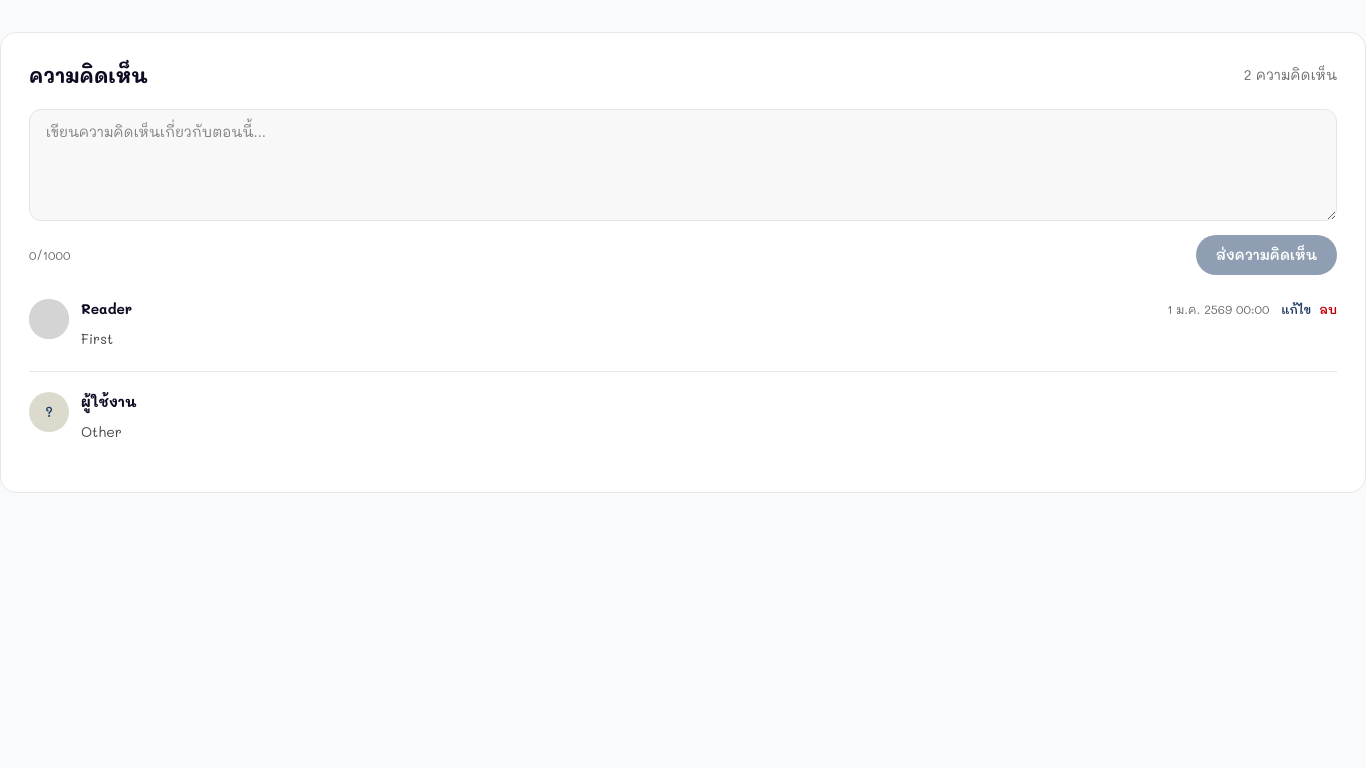
failed comment edit preserves data and presents the error
Click the button "แก้ไข". click: point(1296, 309)
box: [1281,301,1311,317]
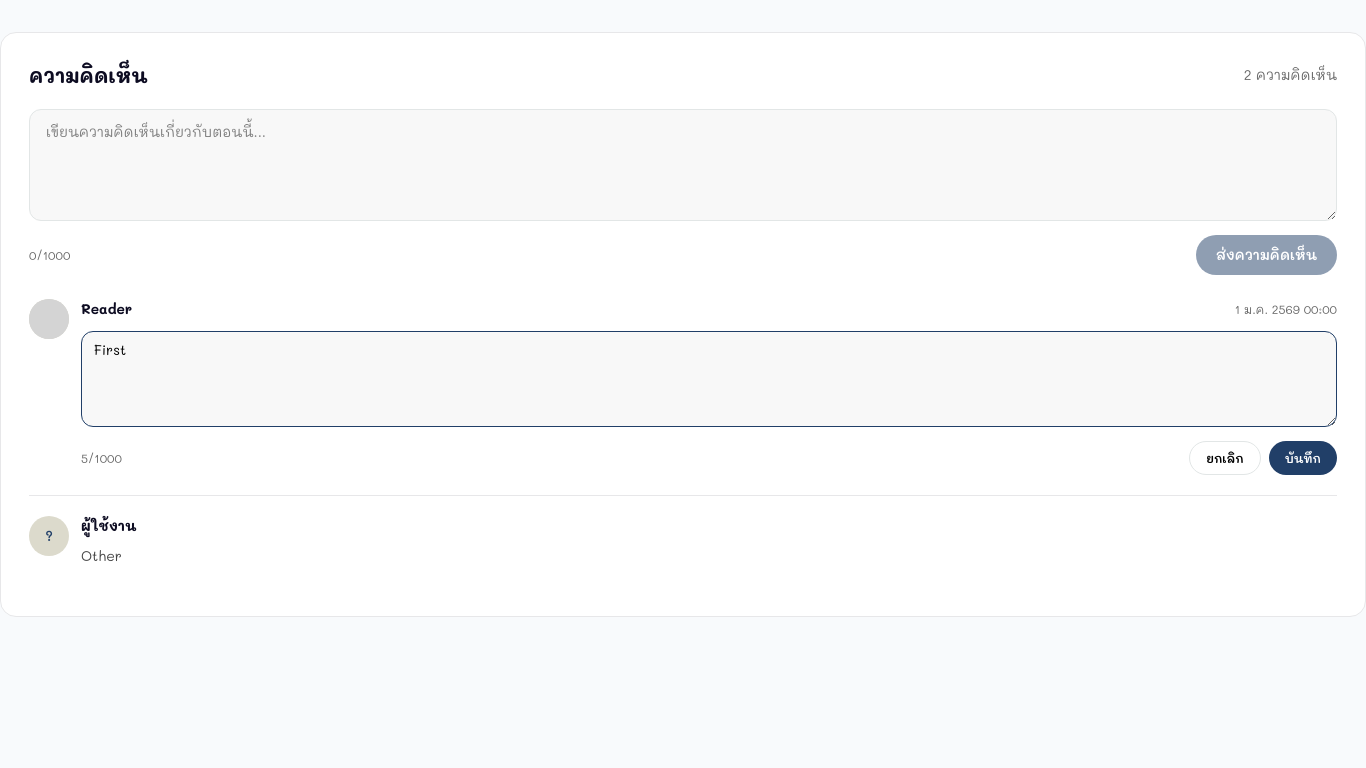
Submit the form "5/1000 ยกเลิก บันทึก", box [81,331,1337,475]
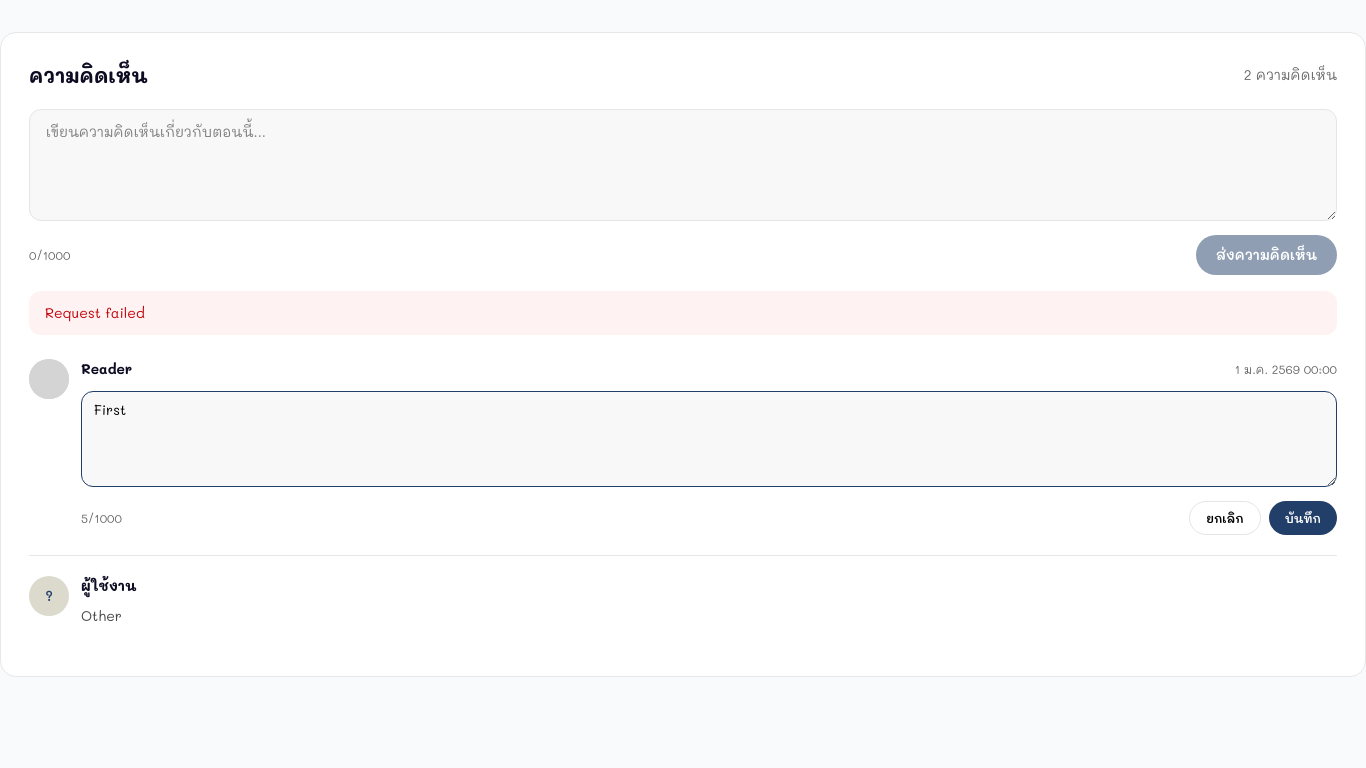
Result: the 2nd text box is shown at [81,391,1337,487]
Result: the message "Request failed" is shown at [29,291,1337,335]
